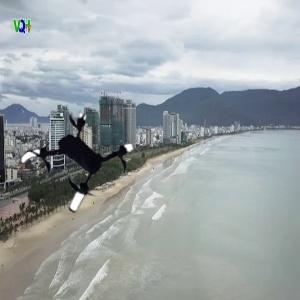drone: (19, 107, 136, 224)
